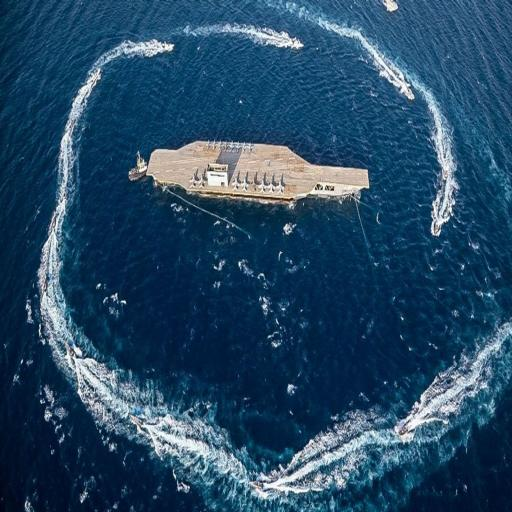Portanaves: (145, 142, 378, 211)
